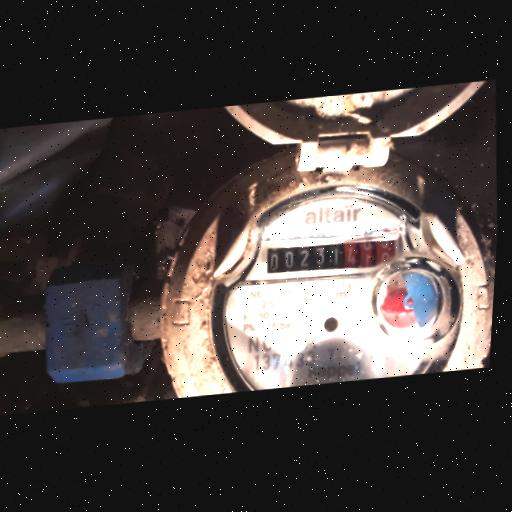0: (265, 248, 285, 274), (359, 240, 378, 267), (281, 247, 301, 272)
1: (326, 244, 346, 270)
2: (296, 246, 316, 272)
3: (311, 244, 331, 271)
4: (342, 242, 363, 268)
9: (375, 240, 396, 266)
border_water_meter_number: (258, 227, 405, 283)
